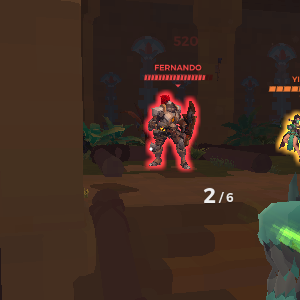model: (148, 91, 194, 176), (281, 110, 300, 164)
